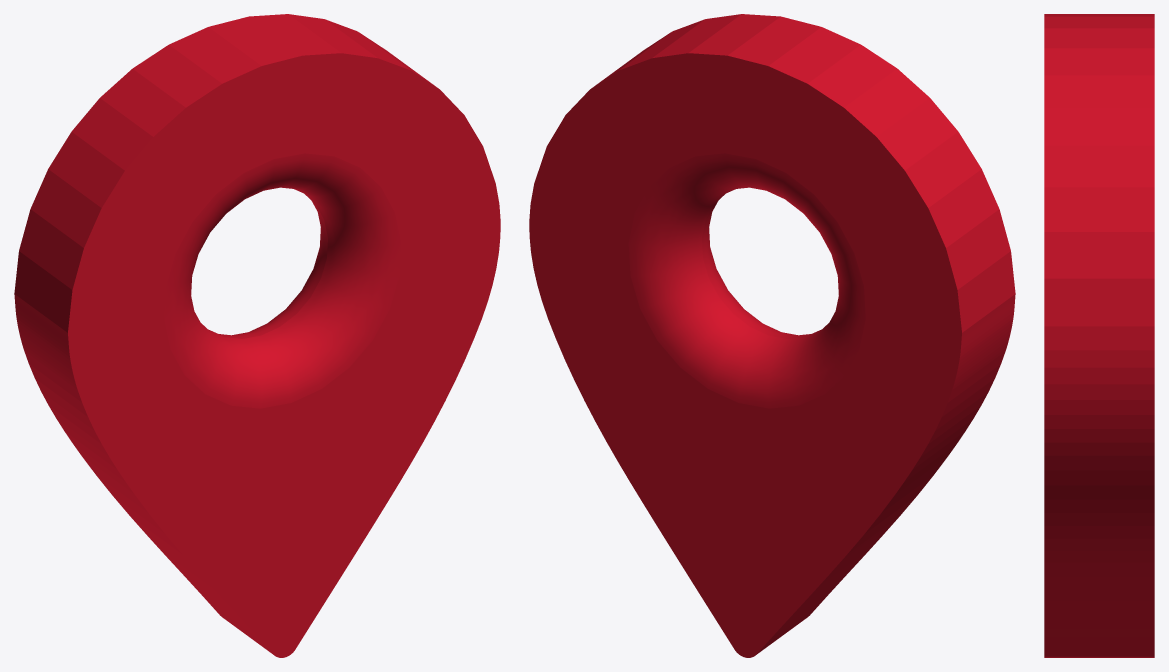
File: pinLocation.glb
The picture shows the model from 3 angles, left to right: view 1: azimuth 30°, elevation 25°; view 2: azimuth 150°, elevation 25°; view 3: azimuth 270°, elevation 25°; orthographic projection. The views are drawn at different scales.
Visible parts, largest first — view 1: looooooc; view 2: looooooc; view 3: looooooc.
Part boxes in pixels (left/top/right/bottom): looooooc: left=14, top=14, right=500, bottom=657; looooooc: left=529, top=14, right=1015, bottom=657; looooooc: left=1044, top=14, right=1154, bottom=657.
Size of the model in its own units: 1.32 by 1.74 by 0.2821.
